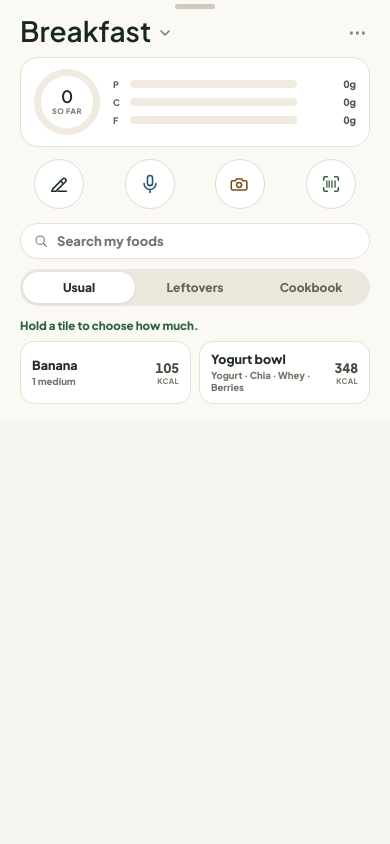
Test: the shelves › a 14-day window from Settings reaches back past the default seven
This screenshot has width=390, height=844.
Expected: the element named "Shelves" is shown, [20,269,370,306]
What coordinates should you click on to do the following:
click the tab "Leftovers"
I would click on:
 (195, 288)
Its box is [139,272,251,303].
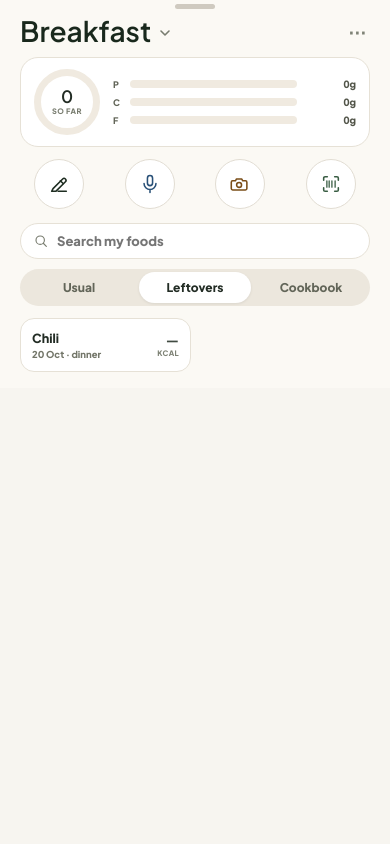
Expected: the button with aria-label "Chili, 20 Oct · dinner" is shown, [20,318,191,372]
